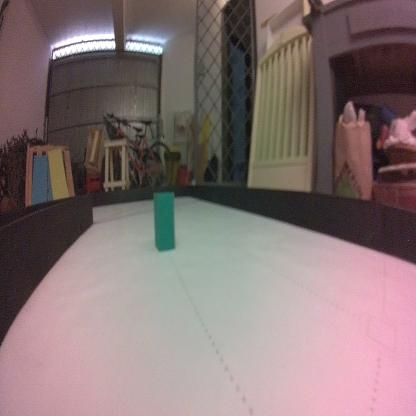green: (153, 190, 176, 256)
